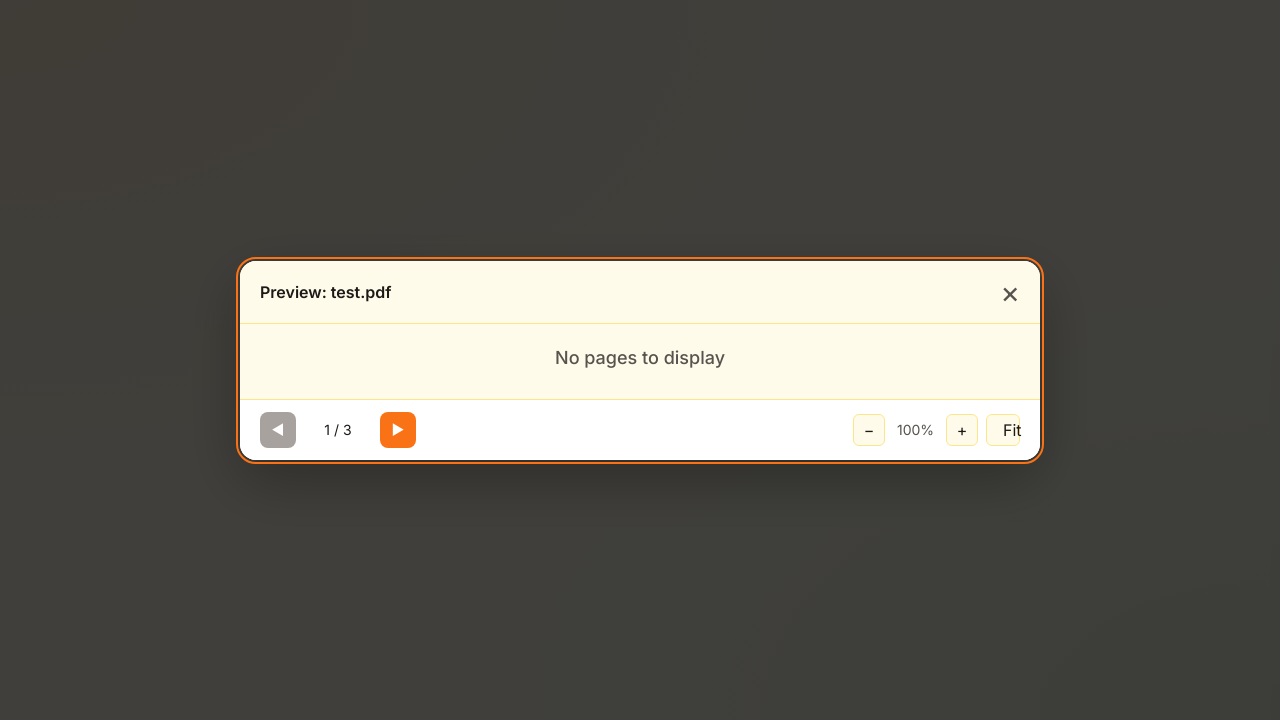
it: PreviewModal › disables next button on last page
The width and height of the screenshot is (1280, 720).
Navigate to last page (page 3)
Click the button named "Next page" at (398, 430), box top-left (380, 412), bottom-right (416, 448)
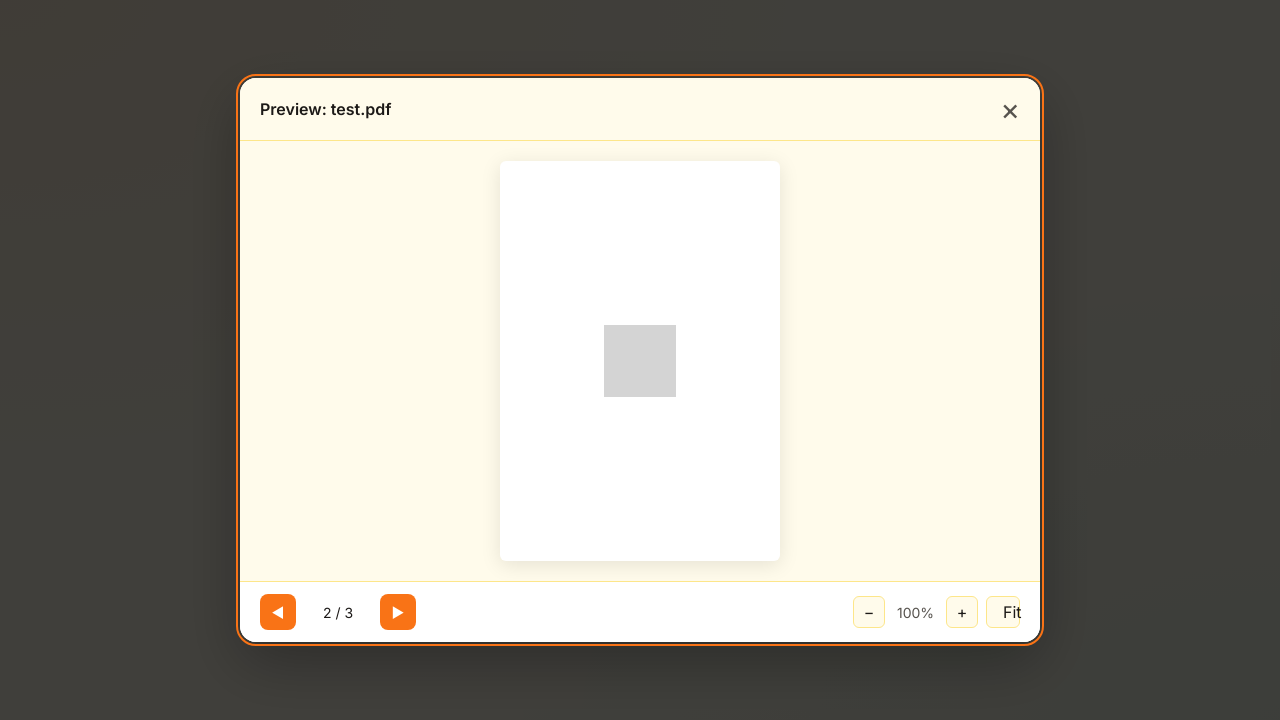
Click the button named "Next page" at (398, 612), box top-left (380, 594), bottom-right (416, 630)
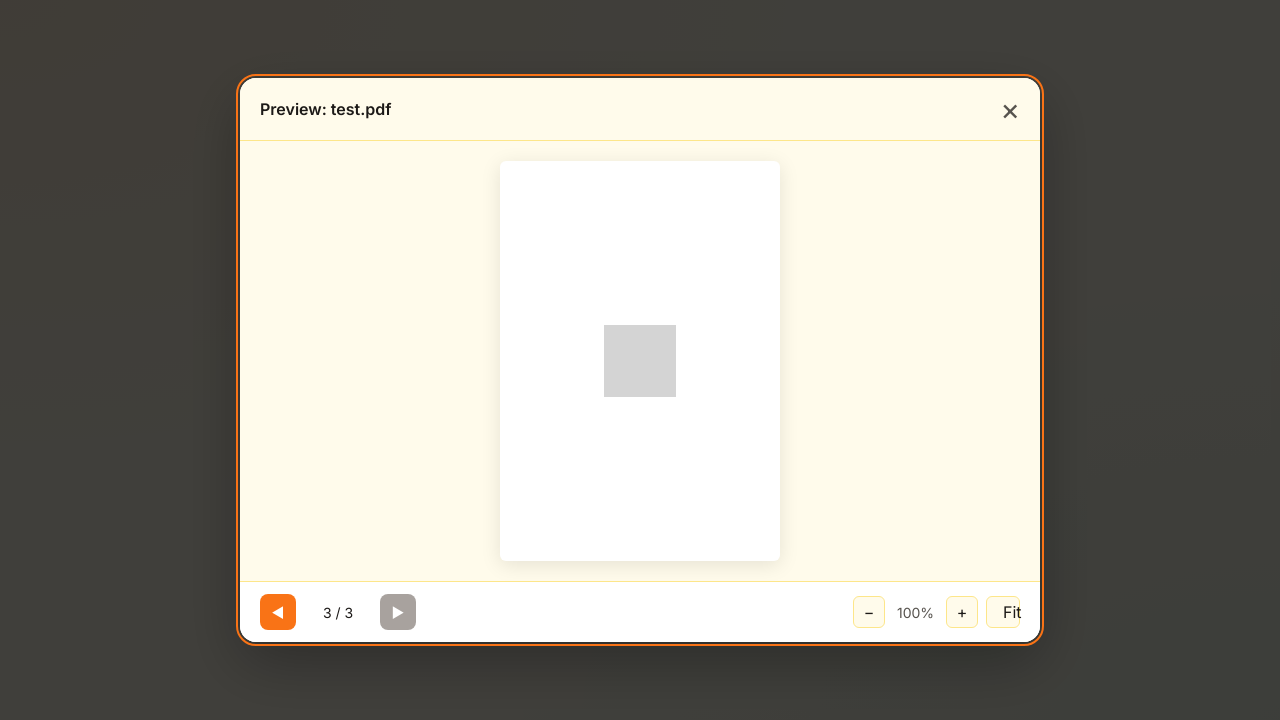
Now the text "3 / 3" is shown, box top-left (323, 604), bottom-right (353, 620)
Now the button named "Next page" is disabled, box top-left (380, 594), bottom-right (416, 630)
